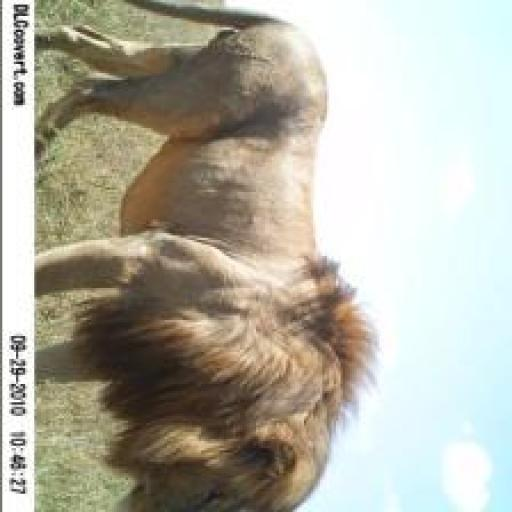lion: (30, 9, 399, 512)
